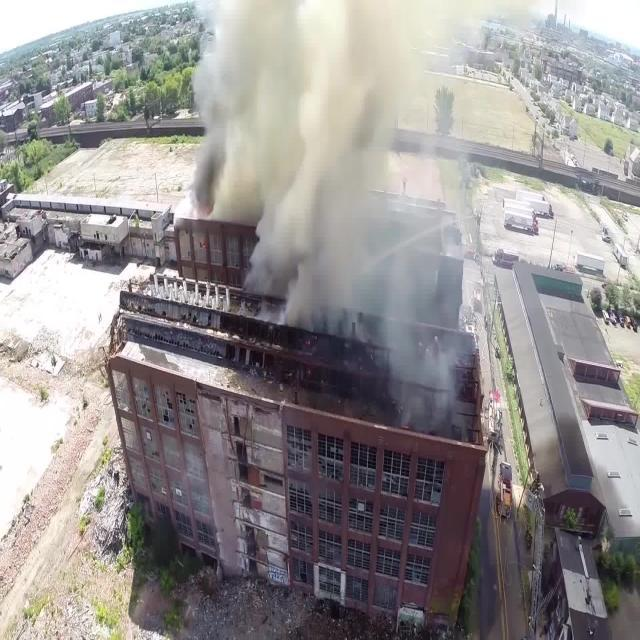Smoke: (153, 2, 568, 321)
